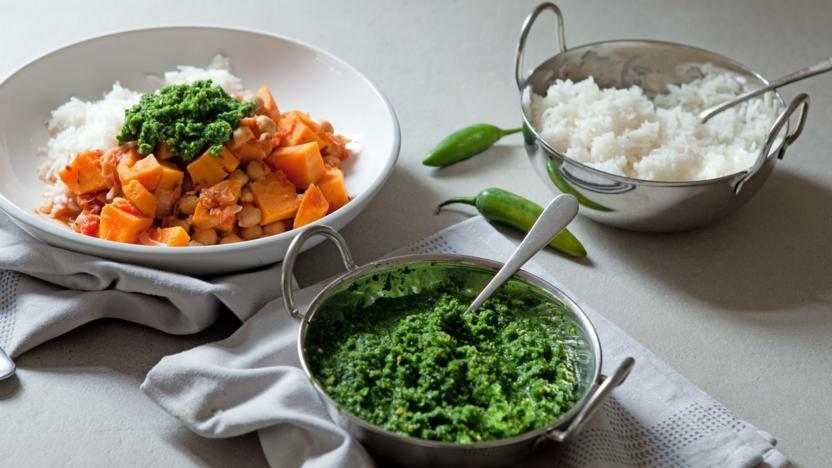GreenChutney: (308, 291, 582, 443), (118, 79, 261, 161)
WhiteRice: (36, 55, 252, 200), (523, 62, 778, 182)
